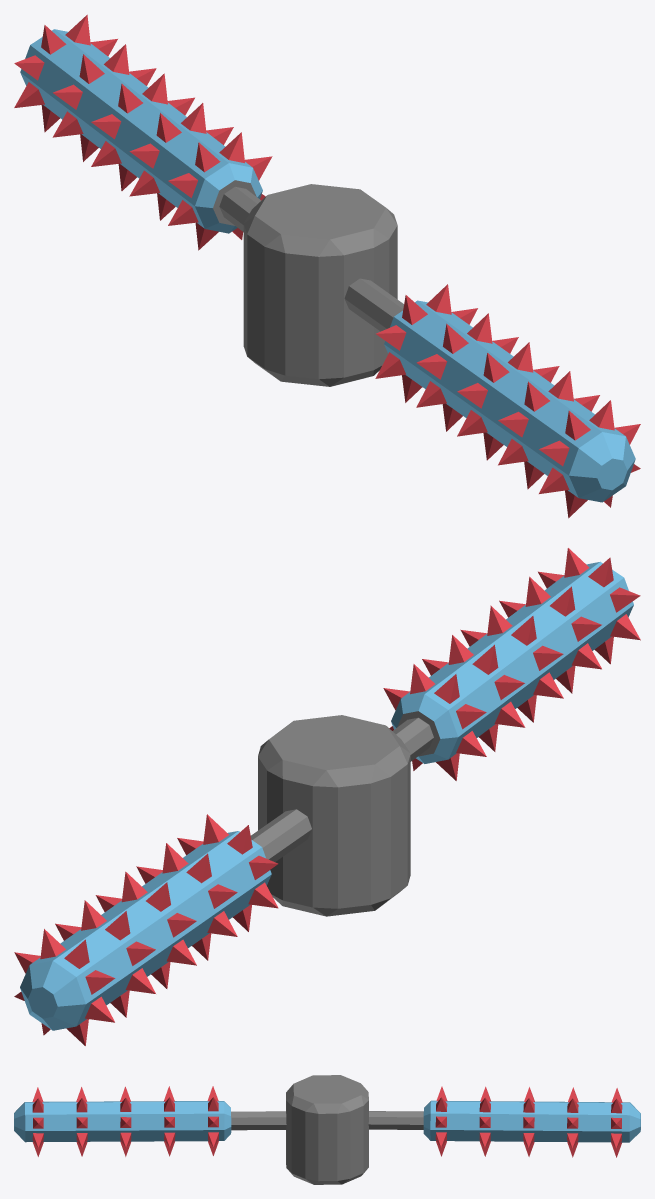
The model's file is obstacle11.fbx.
3 renders of one model, top to bottom at view 1: azimuth 30°, elevation 25°; view 2: azimuth 150°, elevation 25°; view 3: azimuth 270°, elevation 25°, orthographic. The views are drawn at different scales.
Visible parts, largest first — view 1: obstacle011; view 2: obstacle011; view 3: obstacle011.
Boxes of the visible parts, x1,y1,x2,y2 form: obstacle011: [14, 14, 640, 518]; obstacle011: [14, 548, 640, 1045]; obstacle011: [14, 1075, 640, 1184].
Bounding box in the file's own units: 22.95 × 24.78 × 174.
